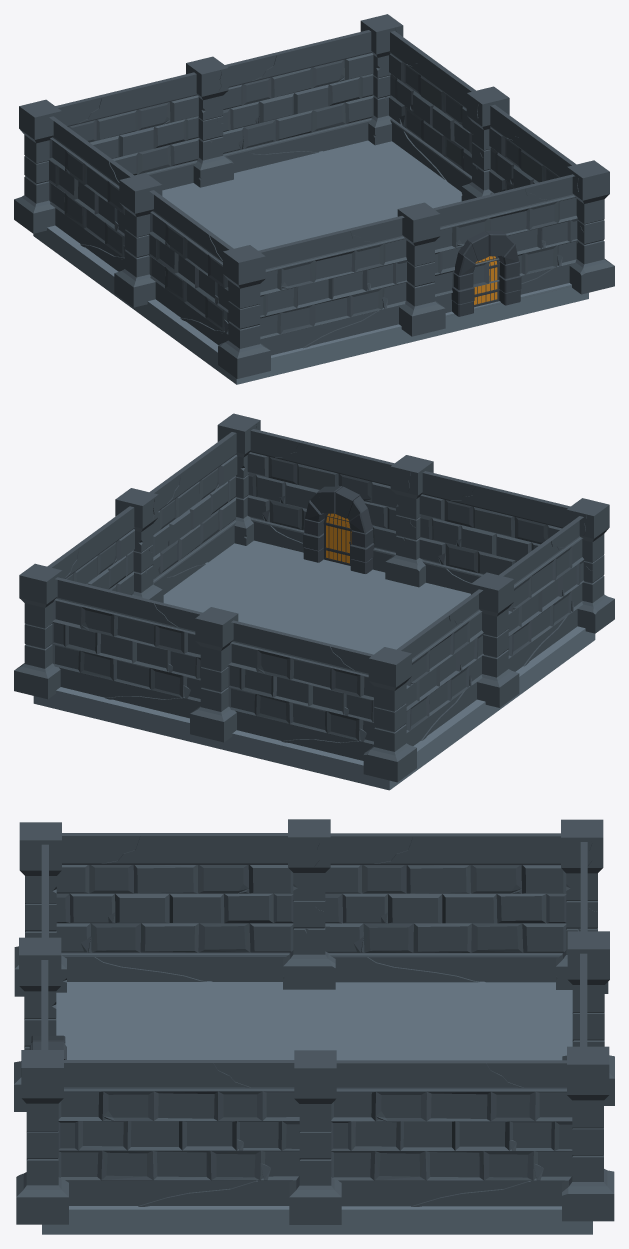
File: Room1C.obj
3 views of the same model, one above another, from view 1: azimuth 30°, elevation 25°; view 2: azimuth 150°, elevation 25°; view 3: azimuth 270°, elevation 25° (orthographic). The views are drawn at different scales.
Parts seen in each view (by area): view 1: Pillar+Wall.031, Pillar+Wall.028, Cube.270, Pillar+Wall.029, Pillar+Wall.030, Arch.019, door.018; view 2: Pillar+Wall.028, Pillar+Wall.031, Cube.270, Pillar+Wall.029, Pillar+Wall.030, Arch.019, door.018; view 3: Pillar+Wall.030, Pillar+Wall.029, Cube.270, Pillar+Wall.028, Pillar+Wall.031.
Part boxes in pixels (x1,y1,x2,y2): Pillar+Wall.031: (218, 174, 577, 378); Pillar+Wall.028: (55, 14, 403, 190); Cube.270: (33, 140, 588, 384); Pillar+Wall.029: (14, 99, 233, 345); Pillar+Wall.030: (389, 31, 614, 294); Arch.019: (451, 230, 521, 316); door.018: (474, 256, 499, 307); Pillar+Wall.028: (14, 563, 374, 760); Pillar+Wall.031: (247, 429, 614, 633); Cube.270: (33, 540, 595, 790); Pillar+Wall.029: (363, 516, 584, 782); Pillar+Wall.030: (47, 413, 260, 602); Arch.019: (303, 486, 374, 573); door.018: (323, 513, 351, 565); Pillar+Wall.030: (16, 1050, 572, 1224); Pillar+Wall.029: (56, 819, 608, 993); Cube.270: (42, 981, 592, 1234); Pillar+Wall.028: (562, 842, 614, 1221); Pillar+Wall.031: (14, 822, 66, 1111).
Bounding box in the file's own units: 10.88 × 3.51 × 10.91.
1 material, 1 textured.
